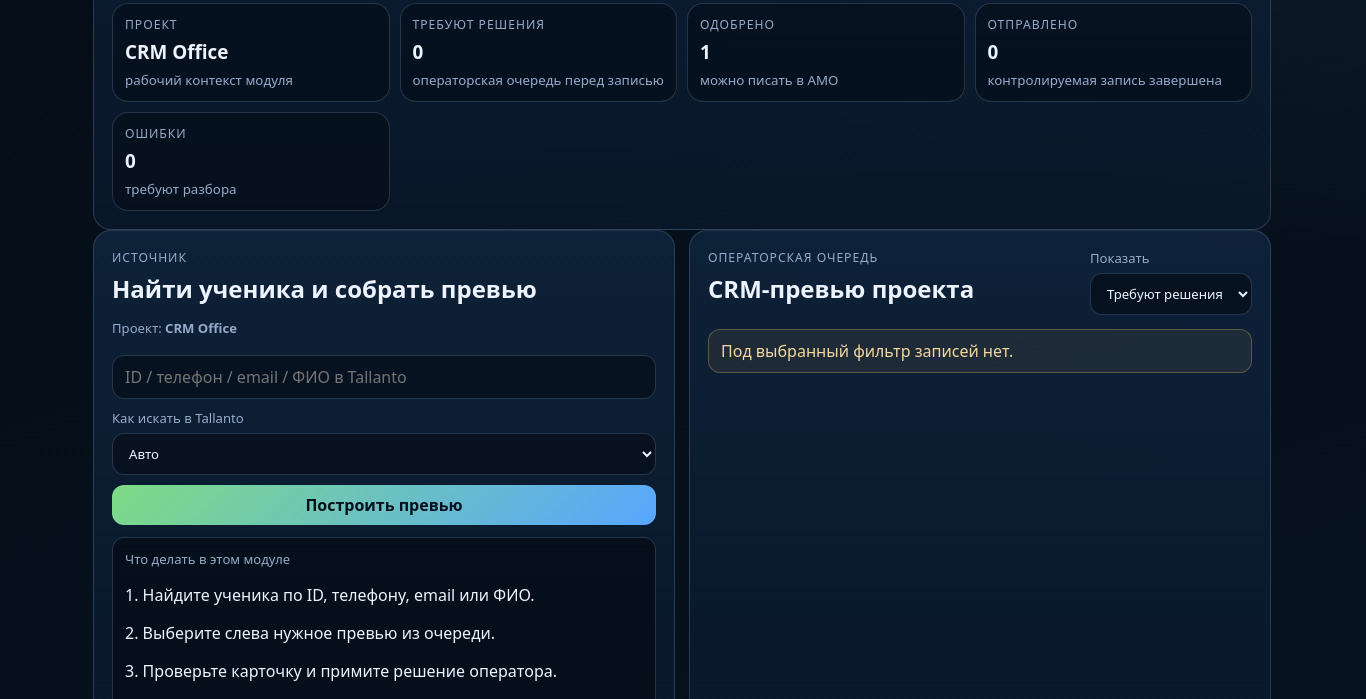
Test: App integration › creates CRM preview without technical mapping controls
(page scrolled)
Step 1. Type "student-9000" into the field with placeholder "ID / телефон / email / ФИО в Tallanto" → (384, 377), box [112,355,656,399]
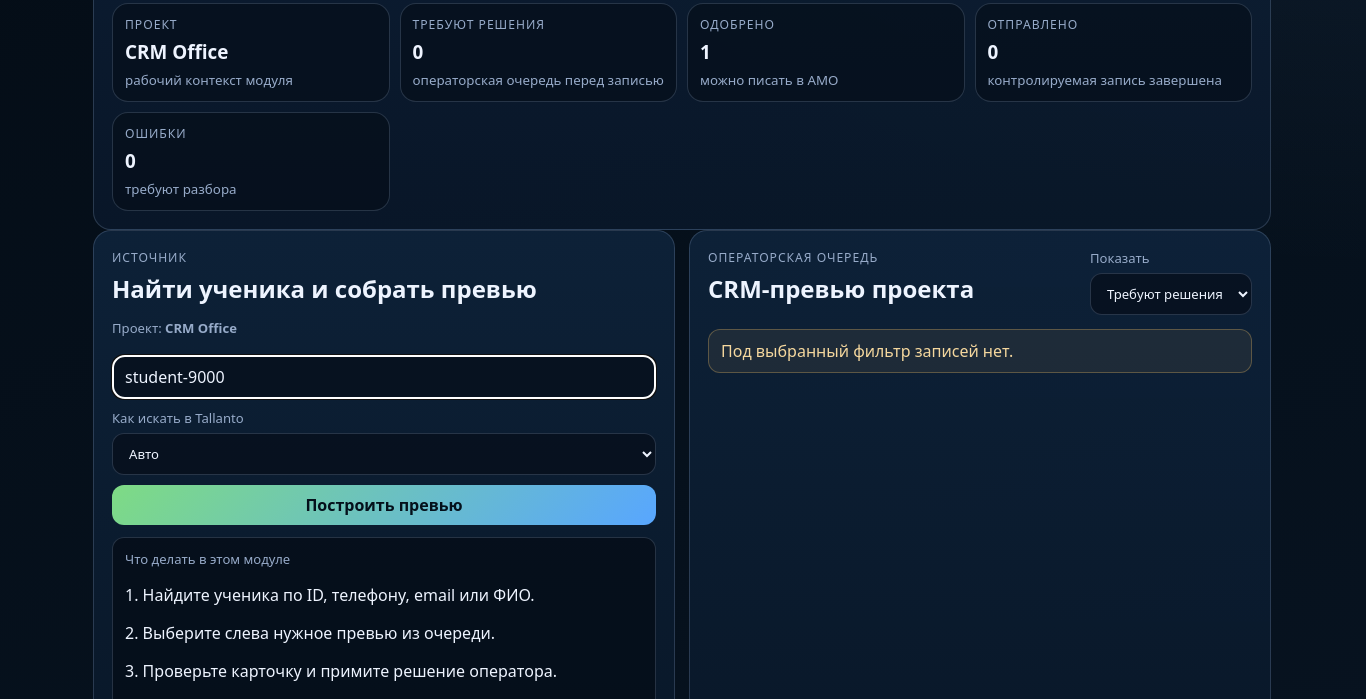
Step 2. Click the button "Построить превью" → (384, 505), box [112,485,656,525]
(page scrolled)
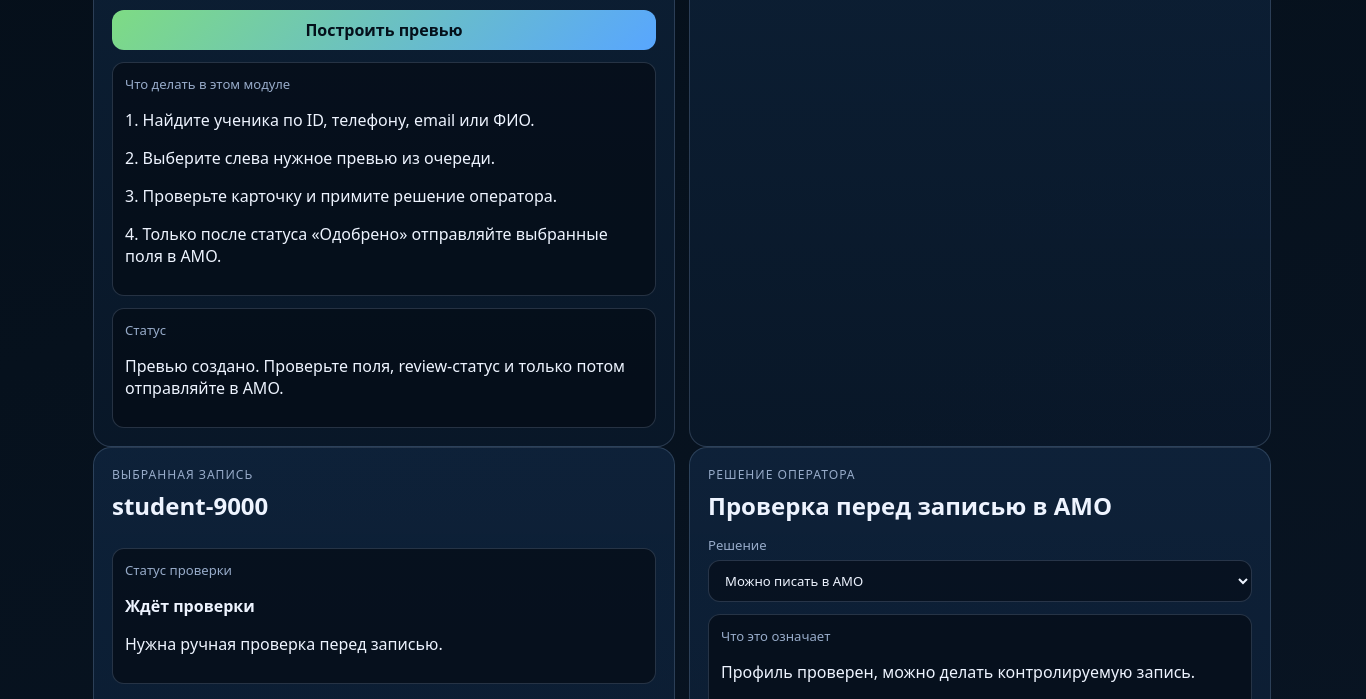
Expected: the text "Превью создано" is shown, [125,355,625,399]
